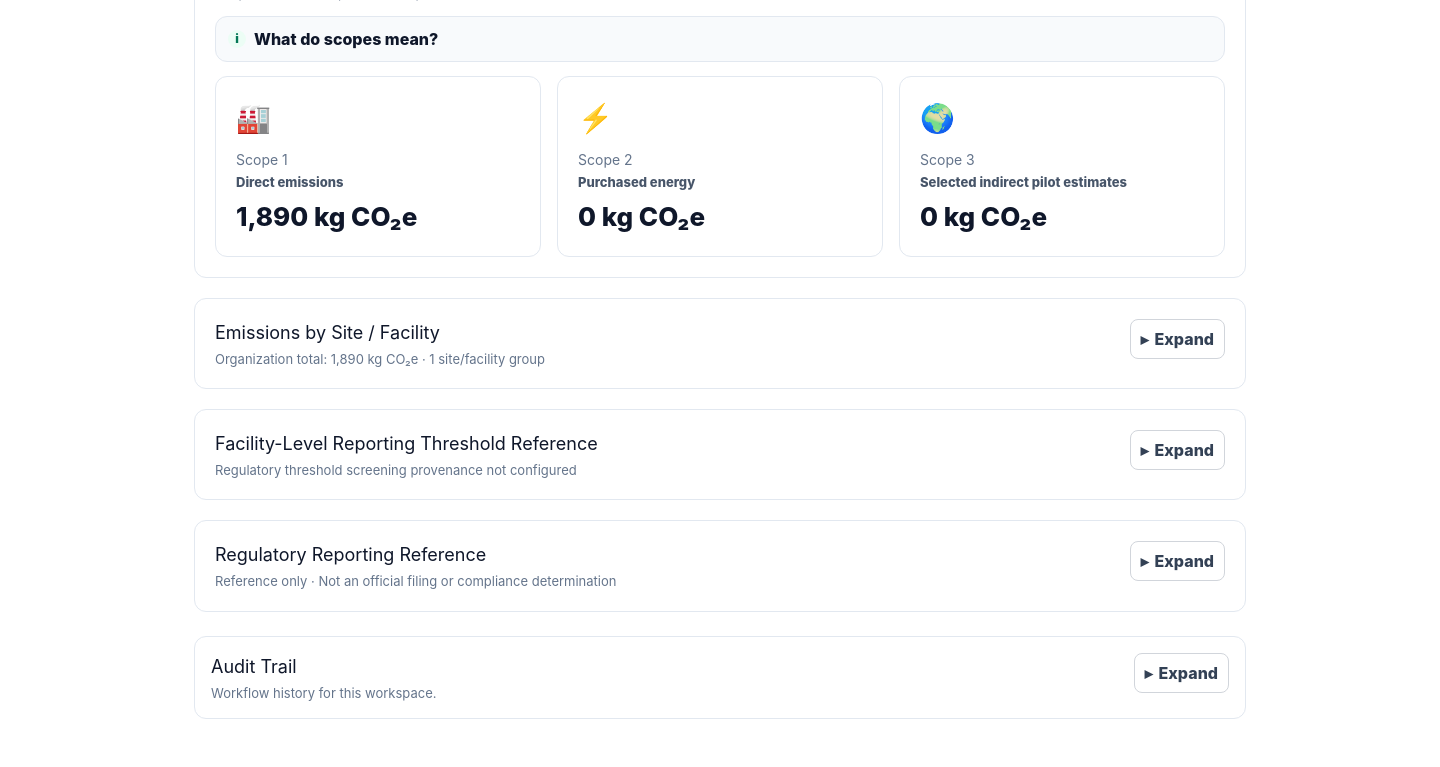
ReportingPage audit trail › shows a query failure instead of claiming that history is empty
(page scrolled)
Step 1. Click the button with aria-label "Expand Audit Trail" → (1181,673), box x1=1134 y1=653 x2=1229 y2=693
(page scrolled)
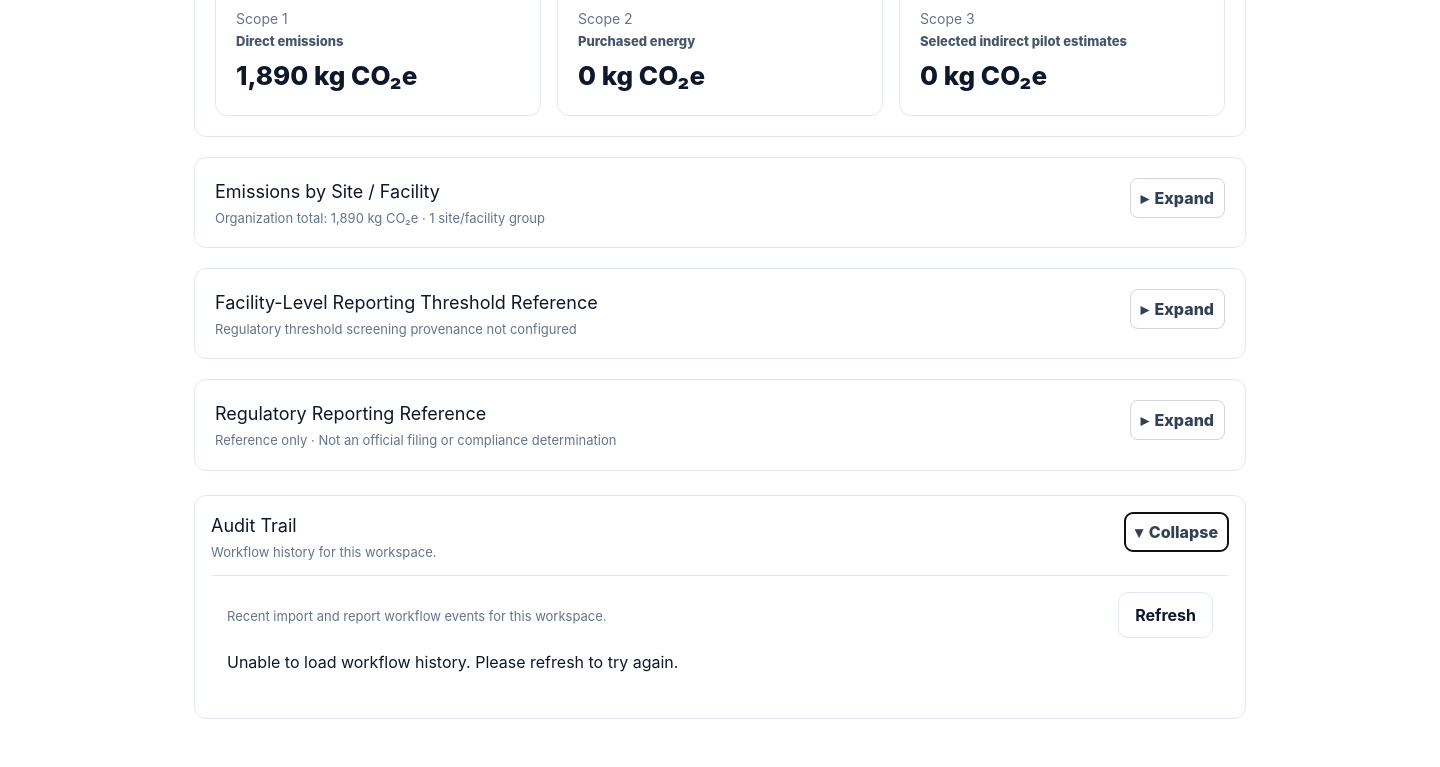
Result: the message shows "Unable to load workflow history" at x1=227 y1=652 x2=678 y2=672
